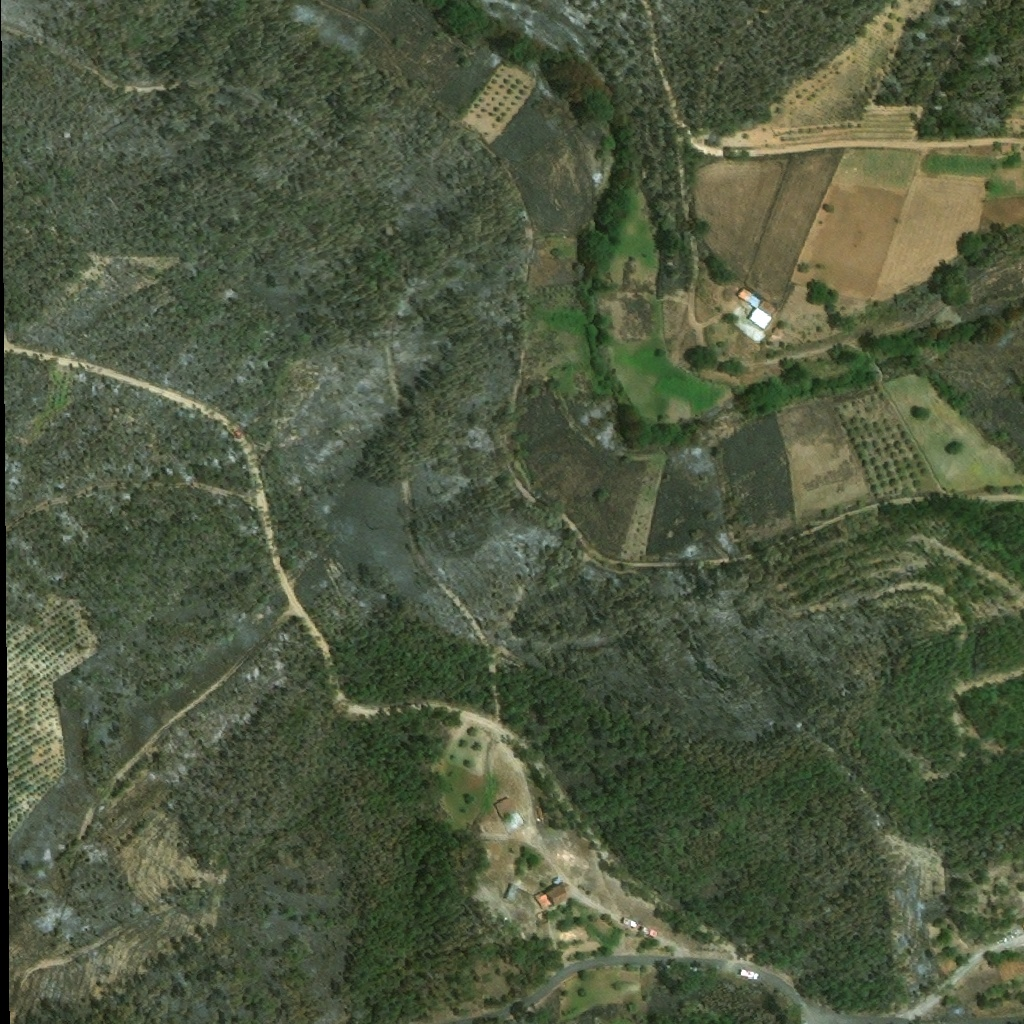0 no-damage: (533, 881, 570, 909), (495, 795, 517, 820), (748, 307, 773, 329), (737, 286, 761, 308), (506, 883, 519, 901), (553, 878, 561, 883)
